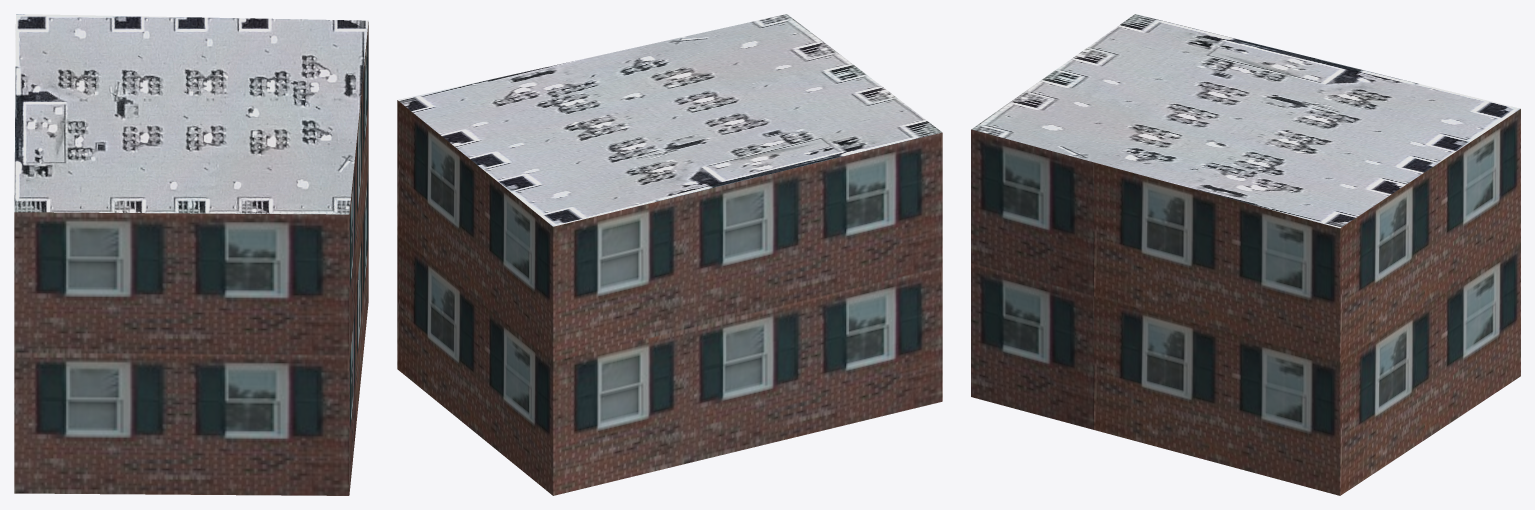
Rendered from ResTex__3092.fbx.
3 views of the same model, side by side, from view 1: azimuth 30°, elevation 25°; view 2: azimuth 150°, elevation 25°; view 3: azimuth 270°, elevation 25° (orthographic). The views are drawn at different scales.
Parts seen in each view (by area): view 1: CityEngineMaterial_14_m, CityEngineMaterial_4_m; view 2: CityEngineMaterial_14_m, CityEngineMaterial_4_m; view 3: CityEngineMaterial_14_m, CityEngineMaterial_4_m.
Part boxes in pixels (x1=…): CityEngineMaterial_14_m: x1=14, y1=22, x2=368, y2=495; CityEngineMaterial_4_m: x1=14, y1=14, x2=368, y2=214; CityEngineMaterial_14_m: x1=397, y1=100, x2=942, y2=495; CityEngineMaterial_4_m: x1=398, y1=14, x2=942, y2=226; CityEngineMaterial_14_m: x1=971, y1=109, x2=1520, y2=495; CityEngineMaterial_4_m: x1=971, y1=14, x2=1520, y2=228.
Size of the model in its own units: 10.31 by 6 by 11.17.
2 materials, 2 textured.
